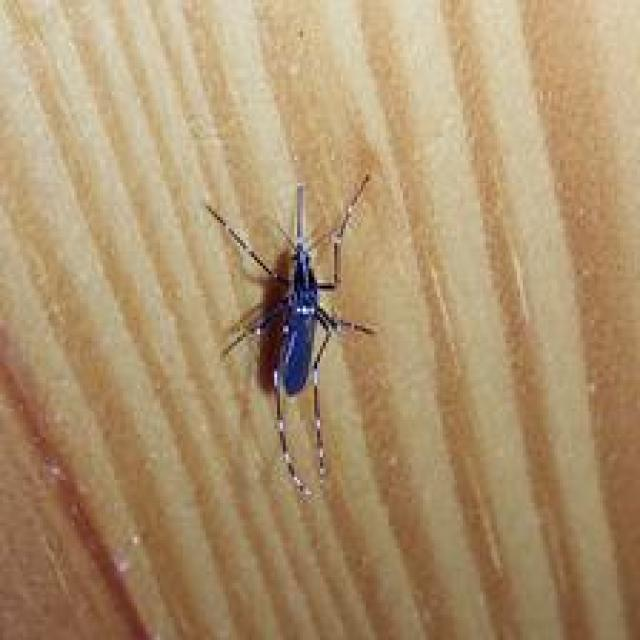Aedes albopictus: (203, 171, 377, 503)
